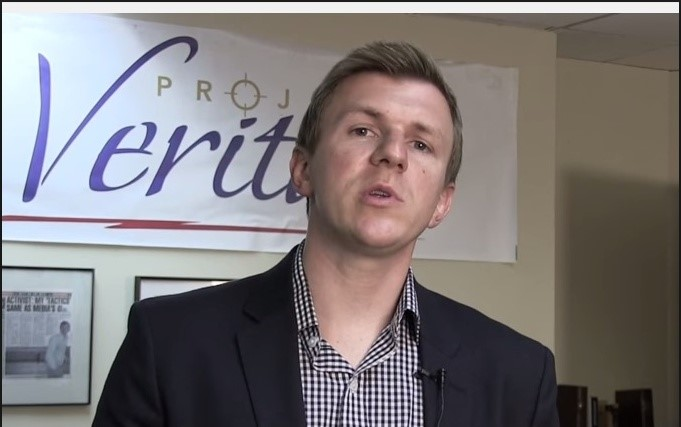face_no_mask: (290, 43, 463, 251)
